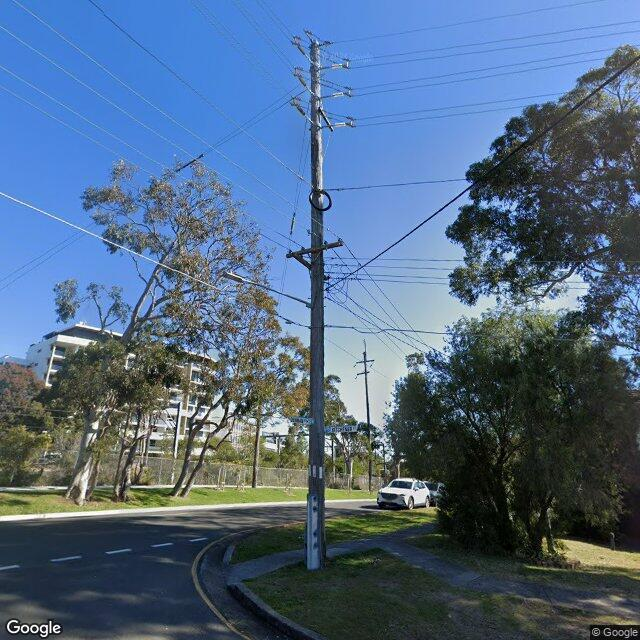HV-transmission: (292, 28, 356, 129), (353, 338, 372, 379)
crossarm: (286, 241, 343, 259), (318, 106, 334, 132), (356, 359, 374, 364), (357, 371, 370, 375)
streetlight: (222, 270, 312, 310)
timber-pole: (307, 41, 325, 571), (363, 352, 371, 492)
